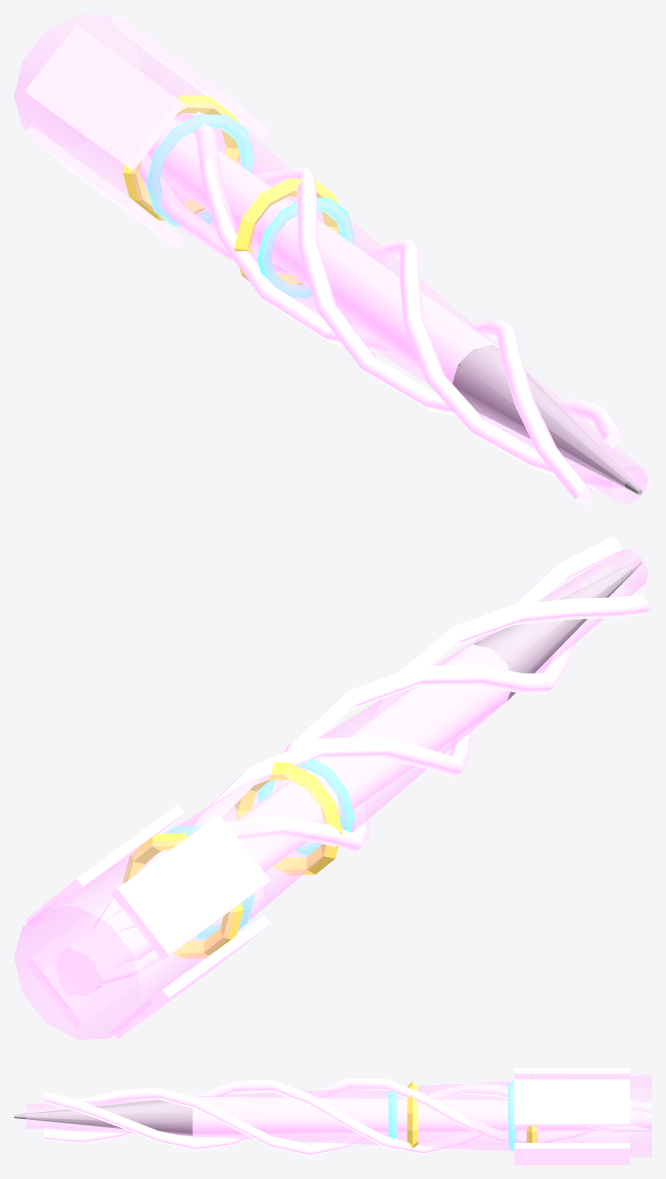
File: tachyon_lance.fbx
The picture shows the model from 3 angles, top to bottom: view 1: azimuth 30°, elevation 25°; view 2: azimuth 150°, elevation 25°; view 3: azimuth 270°, elevation 25°; orthographic projection. The views are drawn at different scales.
Parts seen in each view (by area): view 1: Tachyon_Lance_Mesh; view 2: Tachyon_Lance_Mesh; view 3: Tachyon_Lance_Mesh.
Part boxes in pixels (x1,y1,x2,y2): Tachyon_Lance_Mesh: [14, 14, 651, 507]; Tachyon_Lance_Mesh: [14, 536, 651, 1039]; Tachyon_Lance_Mesh: [14, 1068, 651, 1164].
Bounding box in the file's own units: 0.4738 × 0.4738 × 3.2.
